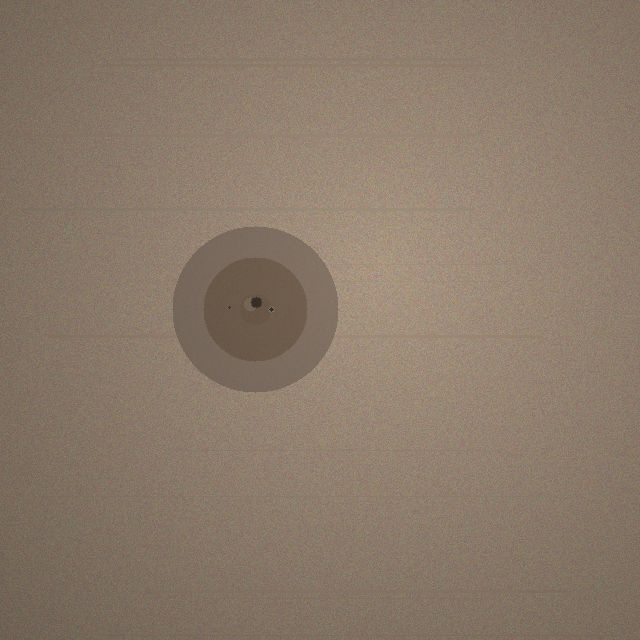shrinkage: (172, 226, 338, 392)
